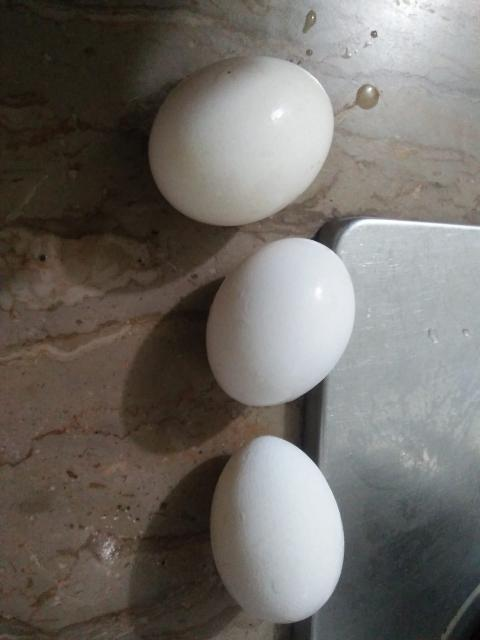Sano: (144, 55, 333, 226), (206, 435, 345, 621), (207, 238, 359, 405)
